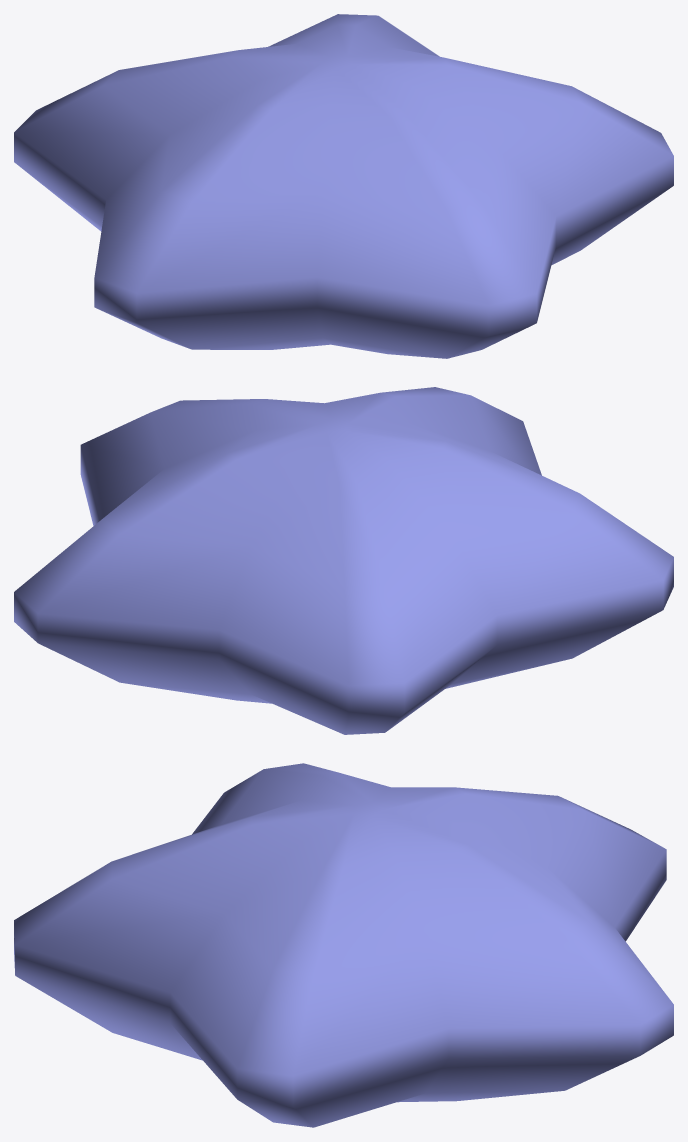
File: Star_low.fbx
The picture shows the model from 3 angles, top to bottom: view 1: azimuth 30°, elevation 25°; view 2: azimuth 150°, elevation 25°; view 3: azimuth 270°, elevation 25°; orthographic projection. The views are drawn at different scales.
Parts seen in each view (by area): view 1: Star; view 2: Star; view 3: Star.
Part boxes in pixels (x1,y1,x2,y2): Star: (14,14,673,358); Star: (14,387,673,734); Star: (14,763,673,1127).
Size of the model in its own units: 242 by 105 by 232.
